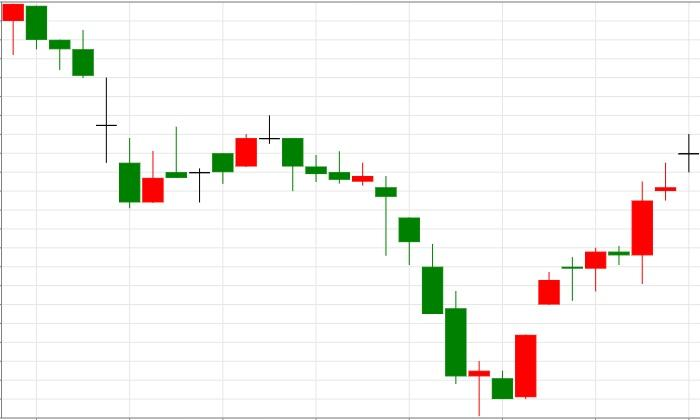evening_star_fall: (119, 114, 303, 208)
